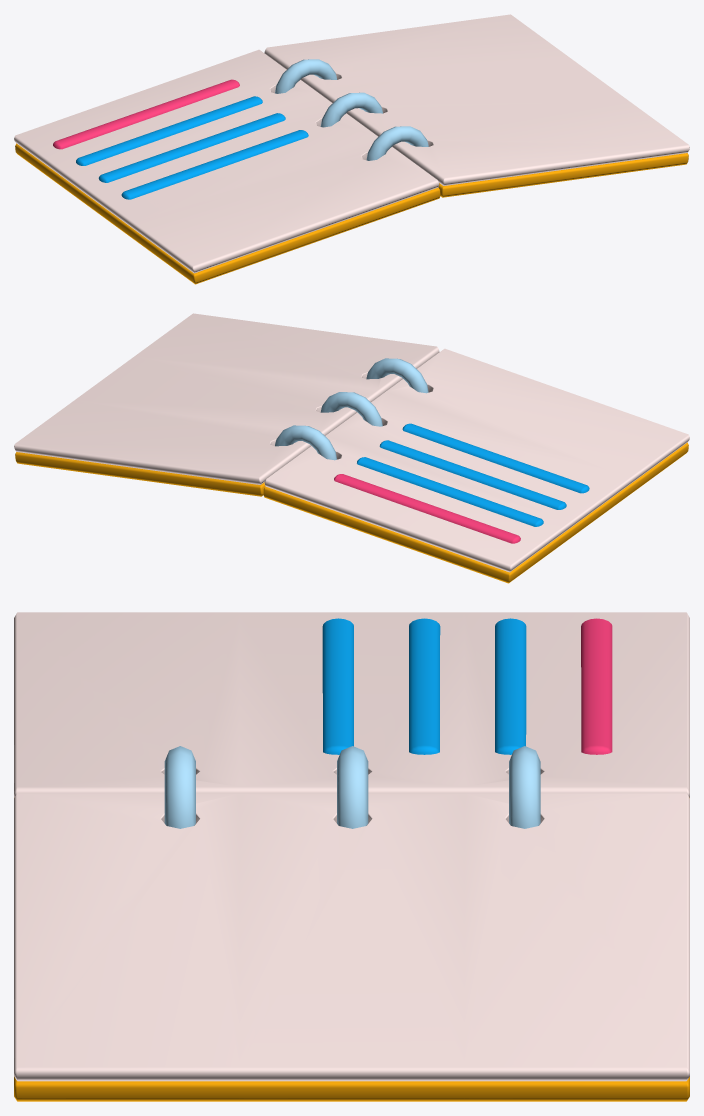
Rendered from Public_8_Notebook_4.glb.
The picture shows the model from 3 angles, top to bottom: view 1: azimuth 30°, elevation 25°; view 2: azimuth 150°, elevation 25°; view 3: azimuth 270°, elevation 25°; orthographic projection. The views are drawn at different scales.
Parts seen in each view (by area): view 1: Public_8_Notebook_4; view 2: Public_8_Notebook_4; view 3: Public_8_Notebook_4.
Part boxes in pixels (x1,y1,x2,y2): Public_8_Notebook_4: (14, 14, 689, 284); Public_8_Notebook_4: (14, 313, 689, 583); Public_8_Notebook_4: (14, 612, 689, 1101).
Bounding box in the file's own units: 2.16 × 0.2747 × 1.35.
1 material, 1 textured.
